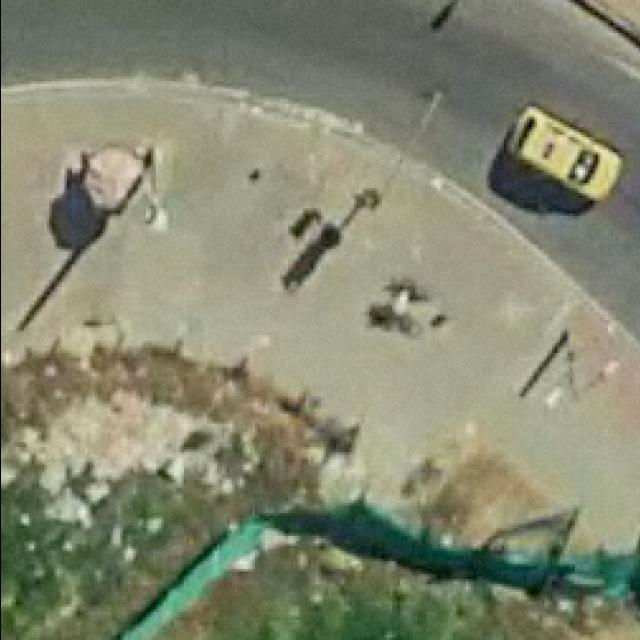vendedor_ambulante: (77, 141, 152, 217)
